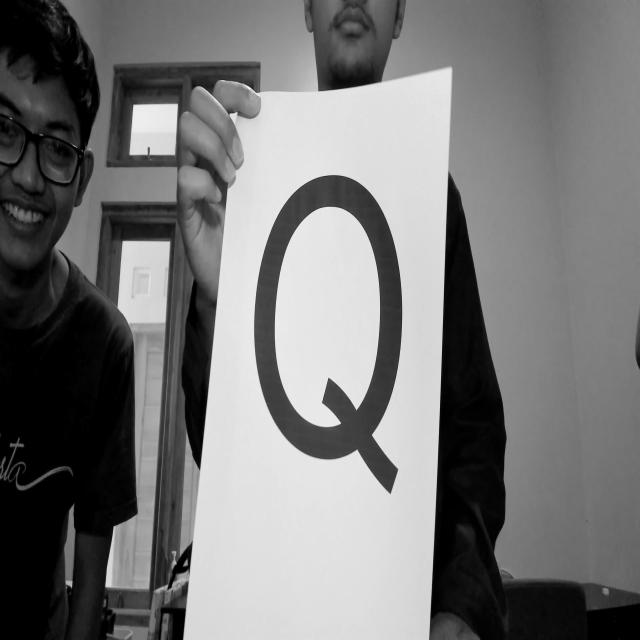q: (252, 168, 427, 536)
